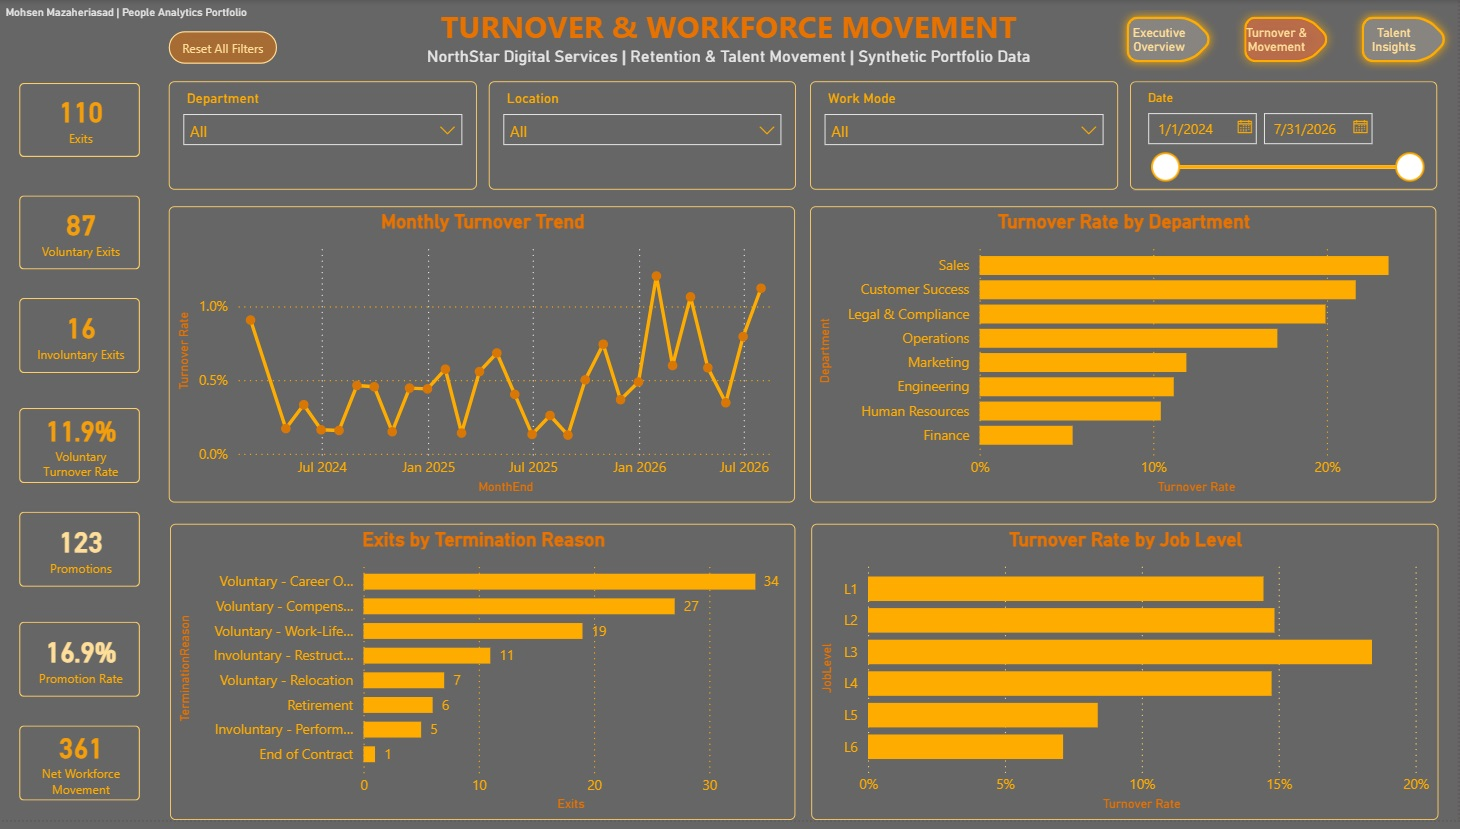

What the dashboard file says about the page in this screenshot:
{"tool":"powerbi","page":{"name":"Turnover & Movement","canvas":[1280,720],"ordinal":1},"visuals":[{"type":"textbox","box":[343.1,0,592.5,71.2],"z":0},{"type":"slicer","fields":{"Values":["DimEmployee.Department"]},"box":[148.3,71.7,270,95],"z":1000},{"type":"cardVisual","fields":{"Data":["_Measures.Promotion Rate"]},"box":[0,529.2,140,100.4],"z":2000},{"type":"lineChart","title":"Monthly Turnover Trend","fields":{"Category":["DimDate.MonthEnd"],"Y":["_Measures.Turnover Rate"]},"box":[148.3,180.9,549.7,260],"z":3000},{"type":"clusteredBarChart","title":"Turnover Rate by Department","fields":{"Category":["DimEmployee.Department"],"Y":["_Measures.Turnover Rate"]},"box":[711.1,180.9,549.7,260],"z":4000},{"type":"clusteredBarChart","title":"Exits by Termination Reason","fields":{"Y":["_Measures.Exits"],"Category":["DimEmployee.TerminationReason"]},"box":[148.7,459.8,549,260.3],"z":5000},{"type":"clusteredBarChart","title":"Turnover Rate by Job Level","fields":{"Y":["_Measures.Turnover Rate"],"Category":["DimEmployee.JobLevel"]},"box":[711.4,459.8,550.3,260],"z":6000},{"type":"slicer","fields":{"Values":["DimEmployee.Location"]},"box":[428.6,71.7,269.5,95],"z":7000},{"type":"slicer","fields":{"Values":["DimEmployee.WorkMode"]},"box":[711.1,71.7,270,95],"z":8000},{"type":"slicer","fields":{"Values":["DimDate.Date"]},"box":[991.4,71.7,269.5,95],"z":9000},{"type":"cardVisual","fields":{"Data":["_Measures.Voluntary Exits"]},"box":[0,154.9,140,99.1],"z":10000},{"type":"cardVisual","fields":{"Data":["_Measures.Involuntary Exits"]},"box":[0,244.2,140,100.4],"z":11000},{"type":"cardVisual","fields":{"Data":["_Measures.Voluntary Turnover Rate"]},"box":[0,340.8,140,100.4],"z":12000},{"type":"cardVisual","fields":{"Data":["_Measures.Promotions"]},"box":[0,432.5,140,100.4],"z":13000},{"type":"cardVisual","fields":{"Data":["_Measures.Exits"]},"box":[0,55.8,140,99.1],"z":14000},{"type":"cardVisual","fields":{"Data":["_Measures.Net Workforce Movement"]},"box":[0,619.7,140,100.4],"z":15000},{"type":"pageNavigator","box":[980.8,7.1,299.2,57],"z":16000},{"type":"actionButton","box":[148.4,27.3,95,28.5],"z":17000},{"type":"textbox","box":[0,0,243.5,27.4],"z":17001}]}

Visuals, with their boxes in screenshot pixels (x1, y1, x2, y2), scaled from the page's 1280x720 canvas onto the 1460x829 screenshot:
textbox: (x1=391, y1=0, x2=1067, y2=82)
slicer - DimEmployee.Department: (x1=169, y1=83, x2=477, y2=192)
cardVisual - _Measures.Promotion Rate: (x1=0, y1=609, x2=160, y2=725)
"Monthly Turnover Trend" lineChart: (x1=169, y1=208, x2=796, y2=508)
"Turnover Rate by Department" clusteredBarChart: (x1=811, y1=208, x2=1438, y2=508)
"Exits by Termination Reason" clusteredBarChart: (x1=170, y1=529, x2=796, y2=828)
"Turnover Rate by Job Level" clusteredBarChart: (x1=811, y1=529, x2=1439, y2=828)
slicer - DimEmployee.Location: (x1=489, y1=83, x2=796, y2=192)
slicer - DimEmployee.WorkMode: (x1=811, y1=83, x2=1119, y2=192)
slicer - DimDate.Date: (x1=1131, y1=83, x2=1438, y2=192)
cardVisual - _Measures.Voluntary Exits: (x1=0, y1=178, x2=160, y2=292)
cardVisual - _Measures.Involuntary Exits: (x1=0, y1=281, x2=160, y2=397)
cardVisual - _Measures.Voluntary Turnover Rate: (x1=0, y1=392, x2=160, y2=508)
cardVisual - _Measures.Promotions: (x1=0, y1=498, x2=160, y2=614)
cardVisual - _Measures.Exits: (x1=0, y1=64, x2=160, y2=178)
cardVisual - _Measures.Net Workforce Movement: (x1=0, y1=714, x2=160, y2=828)
pageNavigator: (x1=1119, y1=8, x2=1459, y2=74)
actionButton: (x1=169, y1=31, x2=278, y2=64)
textbox: (x1=0, y1=0, x2=278, y2=32)
